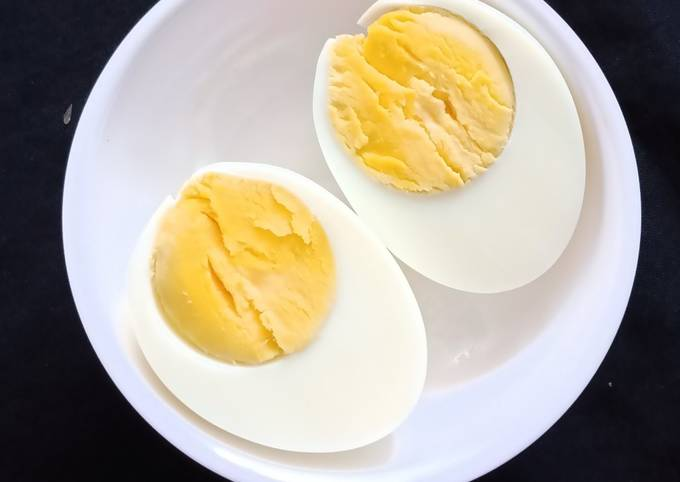Telur: (132, 173, 413, 463), (331, 16, 603, 276)
